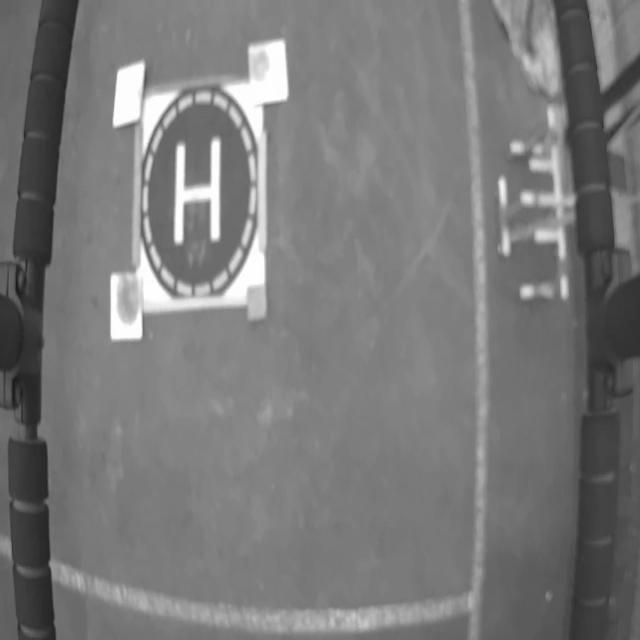Helipad: (174, 138, 222, 244)
